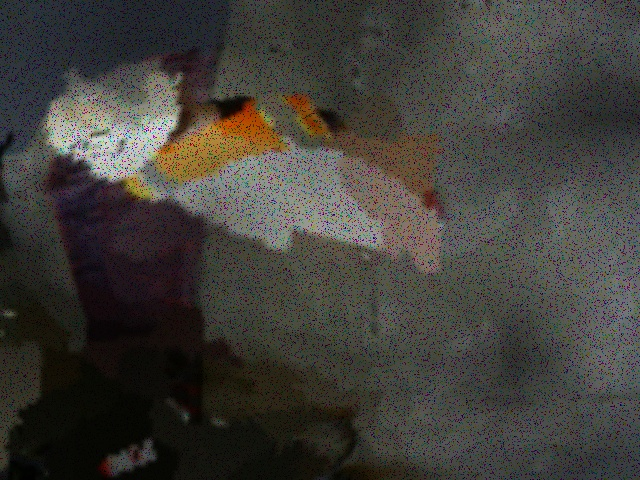three: (67, 128, 126, 169)
